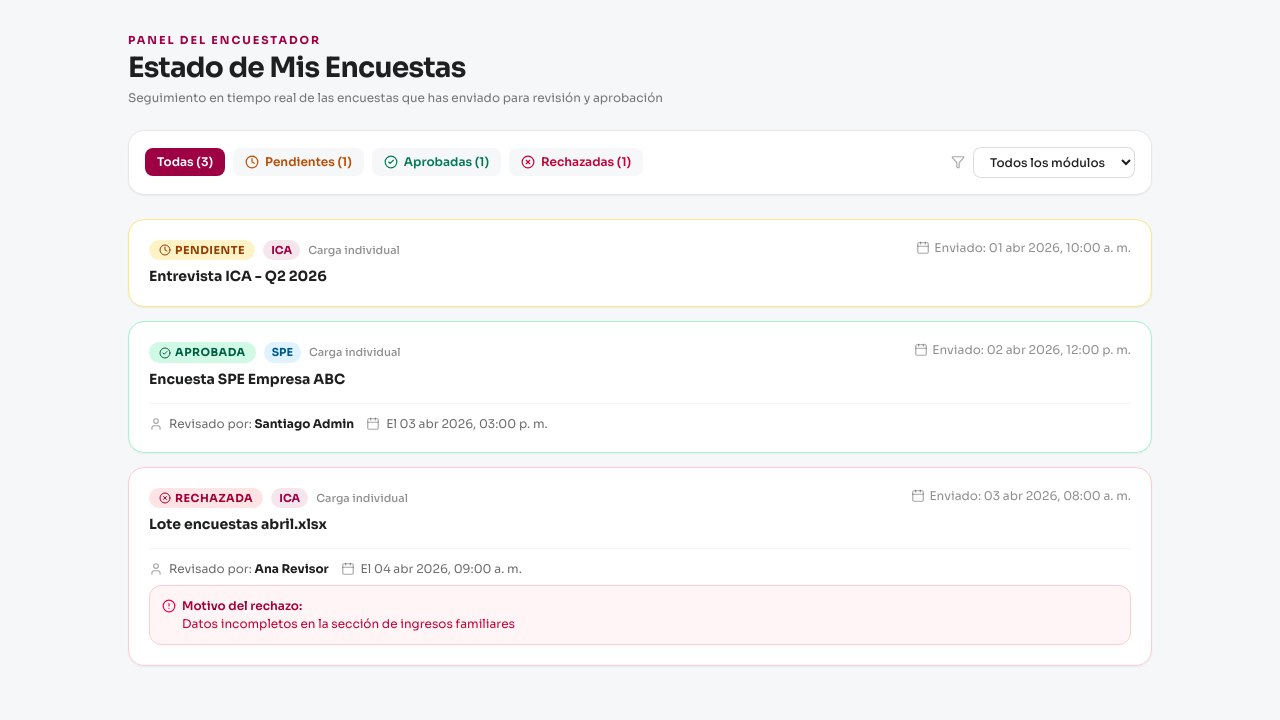
Scenario: MisEncuestasPage (US61 — Estado de mis encuestas) › permite filtrar por estado (aprobadas)
Check: the heading "Entrevista ICA - Q2 2026" is shown, box [149,267,327,285]
Click the button "Aprobadas (1)" at x=436, y=162, box [372,148,501,176]
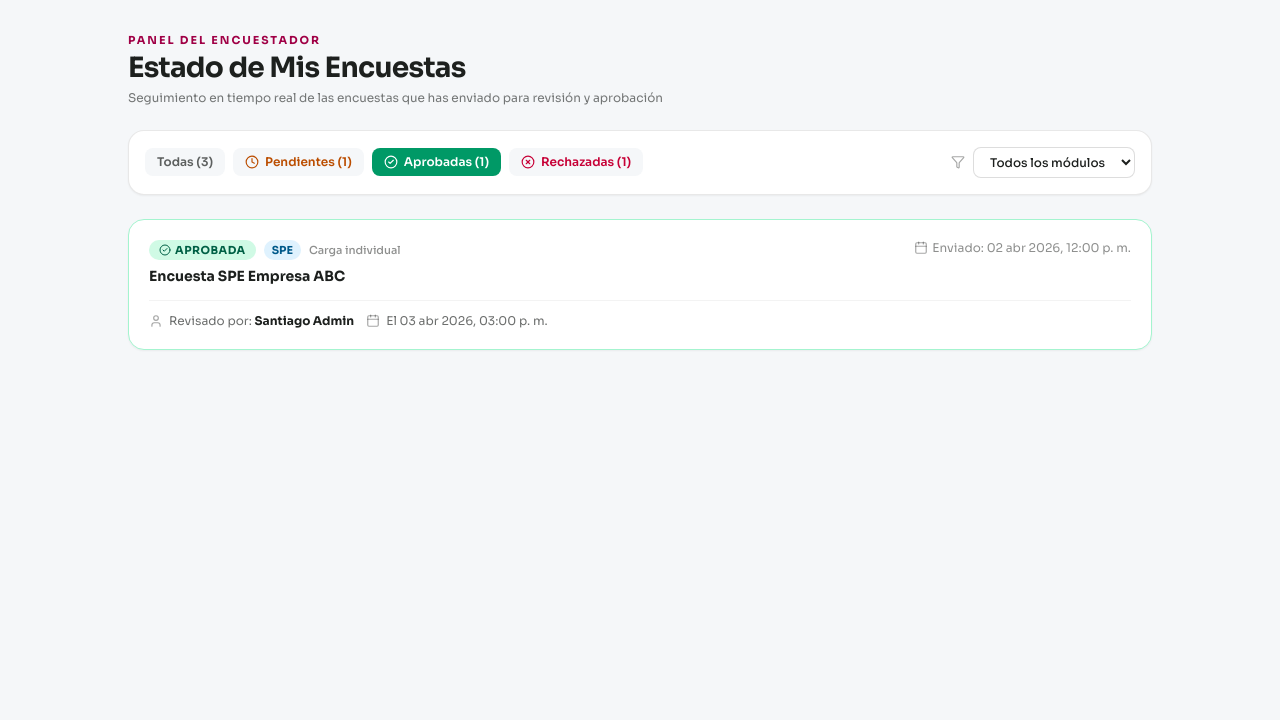
Check: the heading "Encuesta SPE Empresa ABC" is shown, box [149,267,345,285]
Check: the heading "Entrevista ICA - Q2 2026" is gone
Check: the heading "Lote encuestas abril.xlsx" is gone
